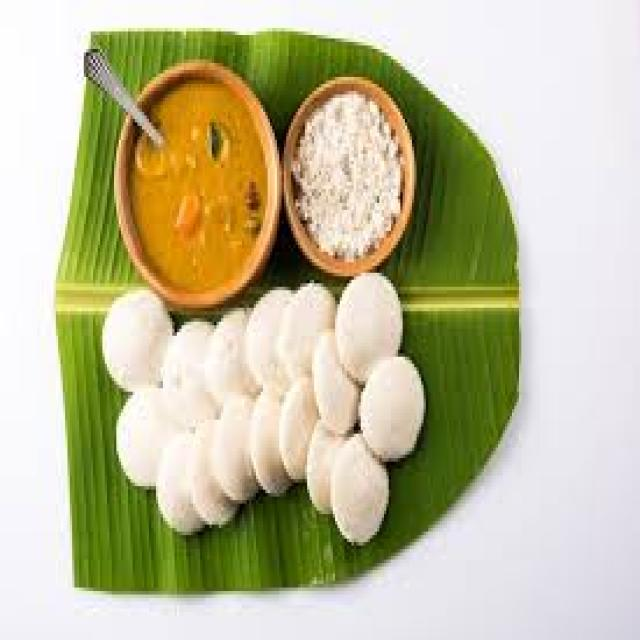IDLI: (116, 273, 424, 542), (102, 290, 172, 388)
